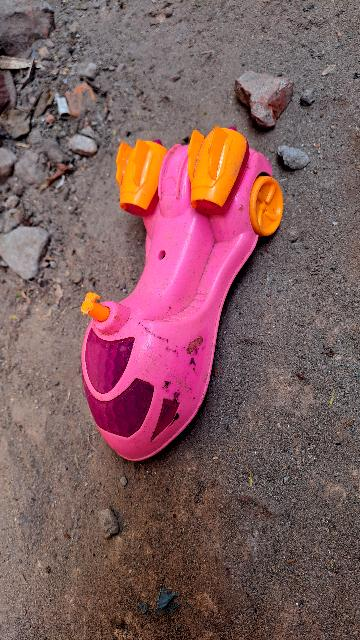hardplastic: (65, 139, 303, 455)
